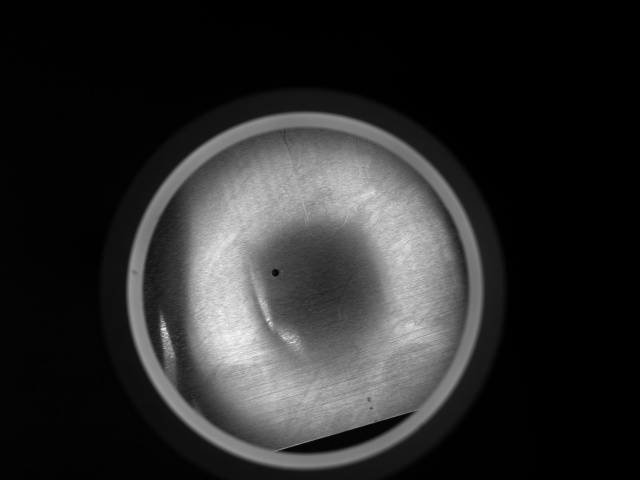zhen_kong: (268, 266, 285, 278)
